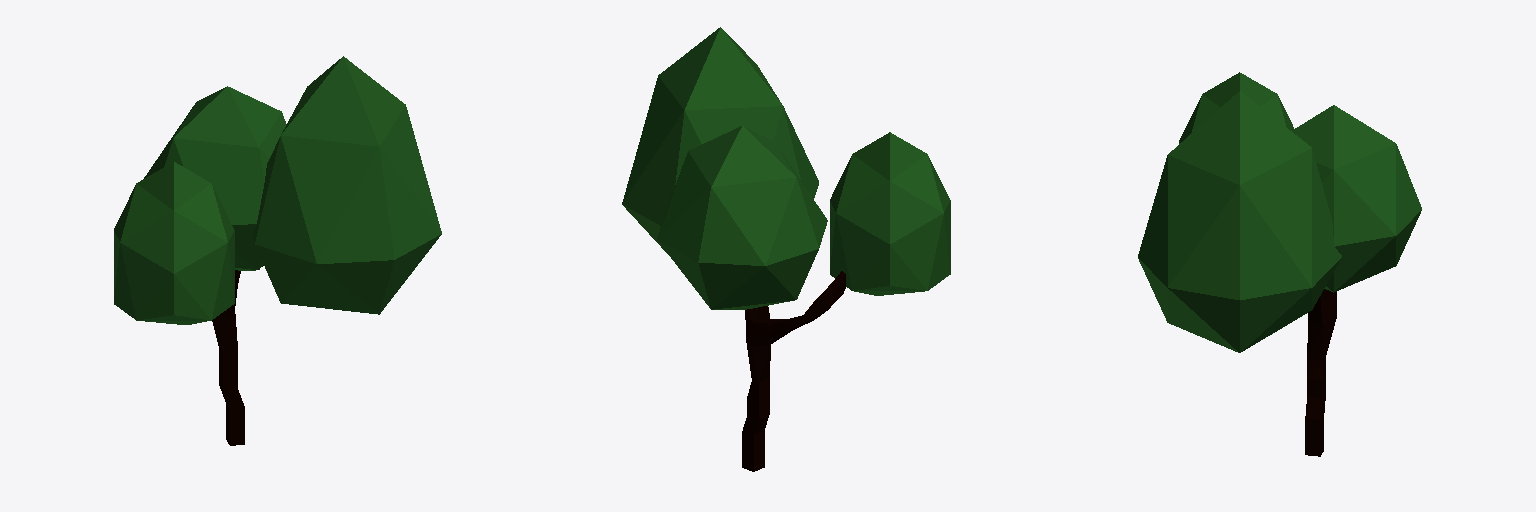
File: tree3.obj
The picture shows the model from 3 angles: view 1: azimuth 30°, elevation 25°; view 2: azimuth 150°, elevation 25°; view 3: azimuth 270°, elevation 25°; orthographic projection.
Visible parts, largest first — view 1: Tree_03_Mesh.004; view 2: Tree_03_Mesh.004; view 3: Tree_03_Mesh.004.
Part boxes in pixels (left/top/right/bottom): Tree_03_Mesh.004: left=114, top=56, right=441, bottom=445; Tree_03_Mesh.004: left=622, top=27, right=950, bottom=471; Tree_03_Mesh.004: left=1138, top=72, right=1421, bottom=456.
Size of the model in its own units: 74.71 by 90.72 by 59.09.